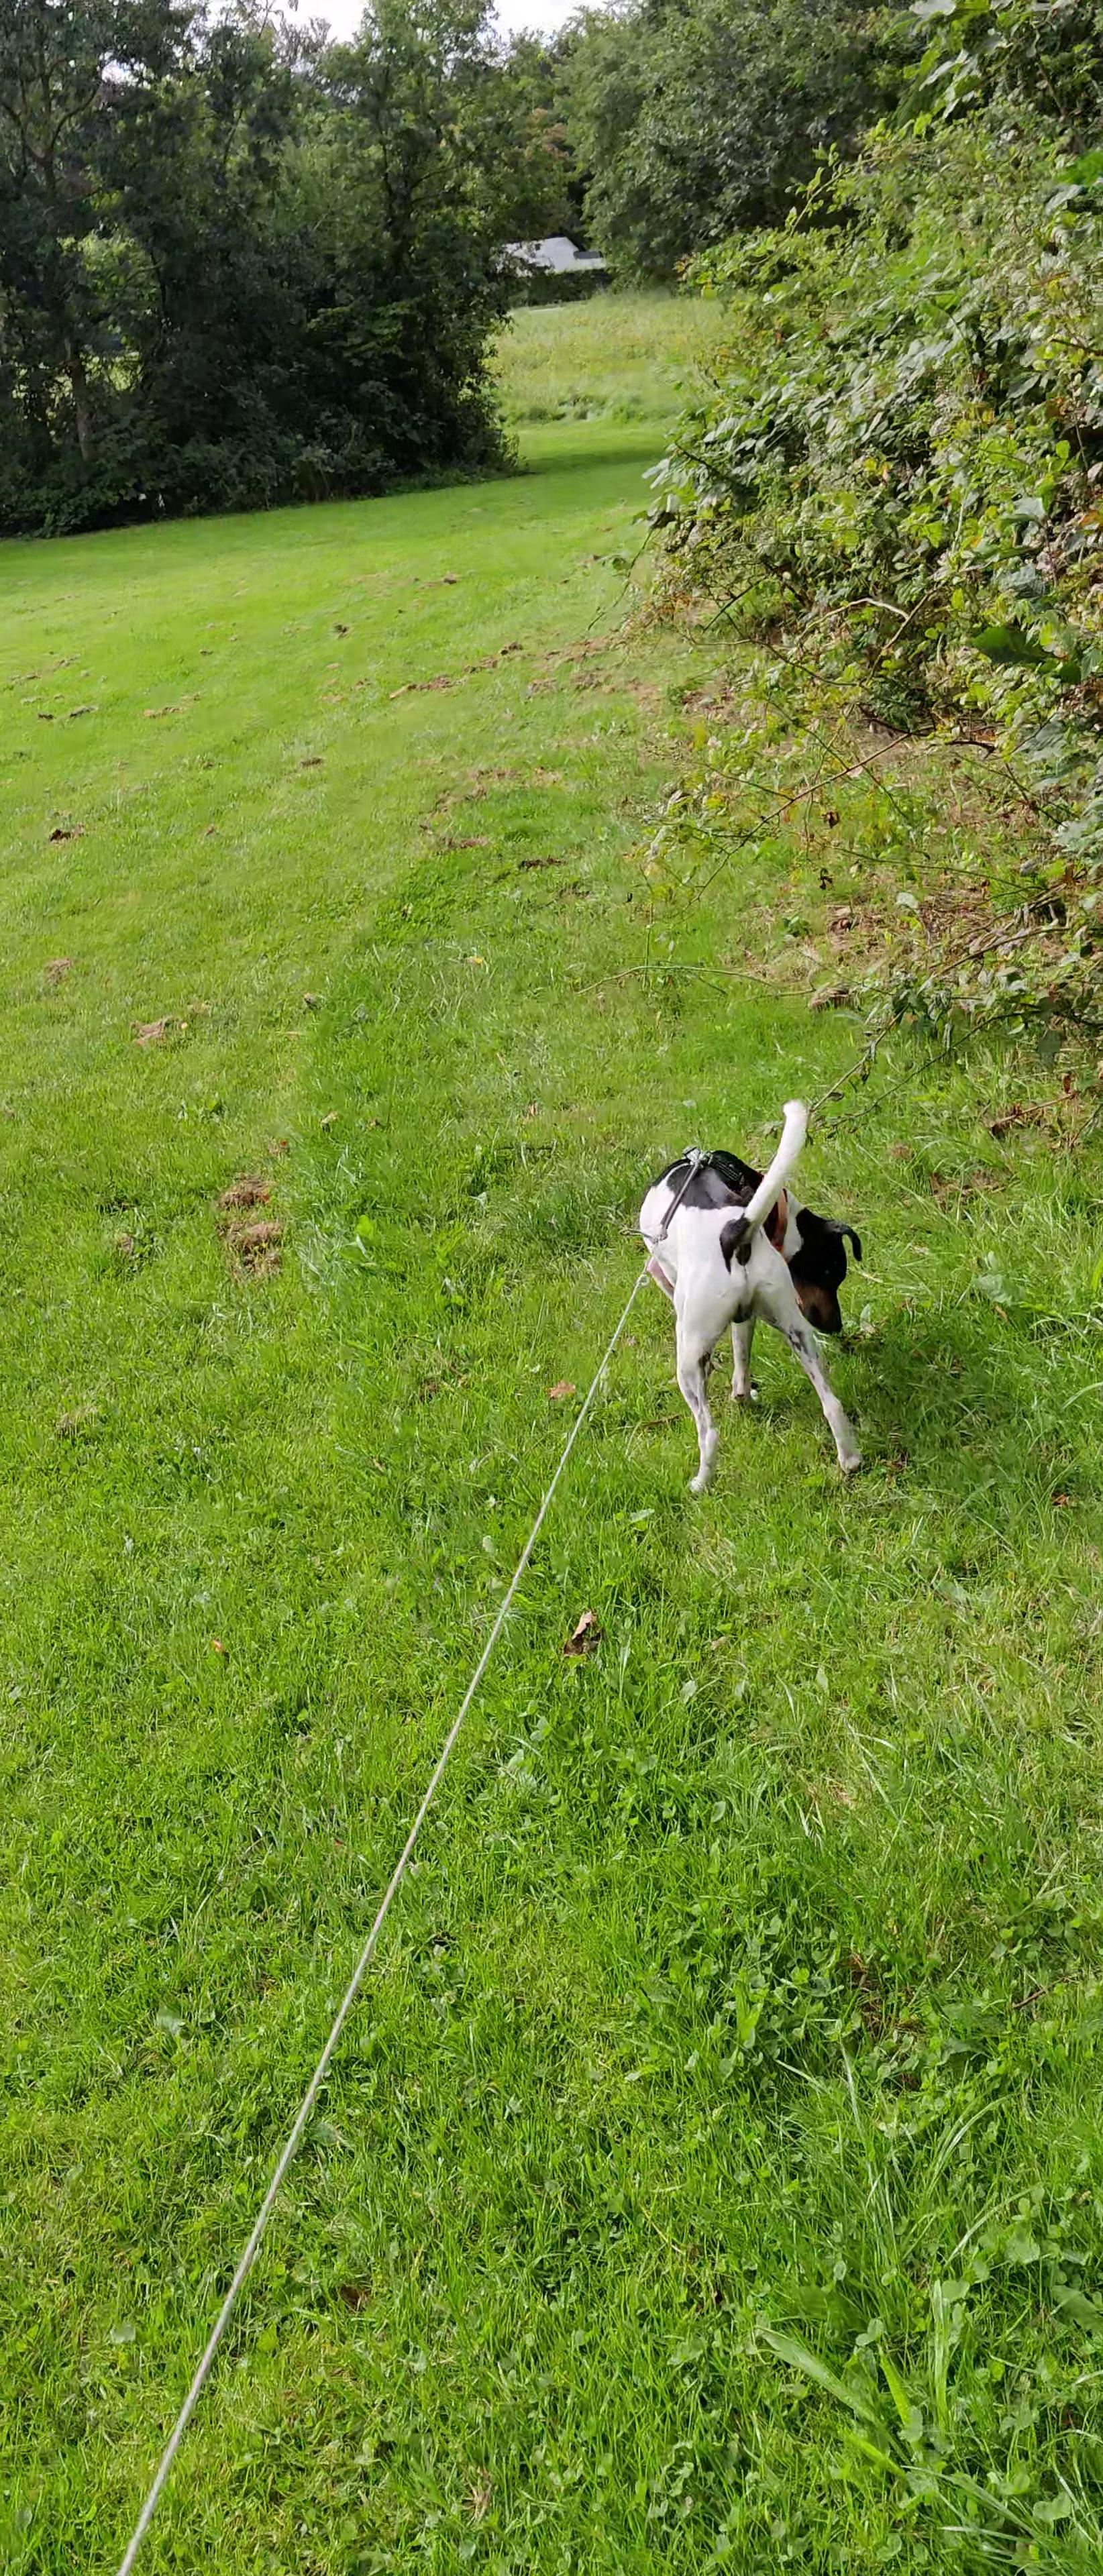Dog: (610, 1066, 911, 1516)
